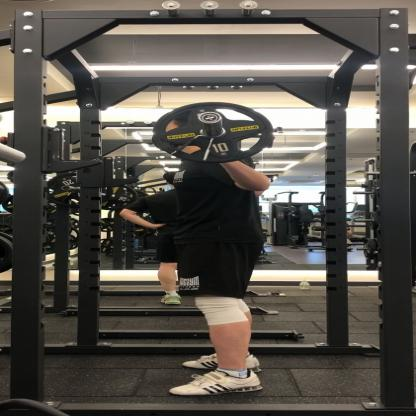Barbell: (139, 96, 281, 169)
